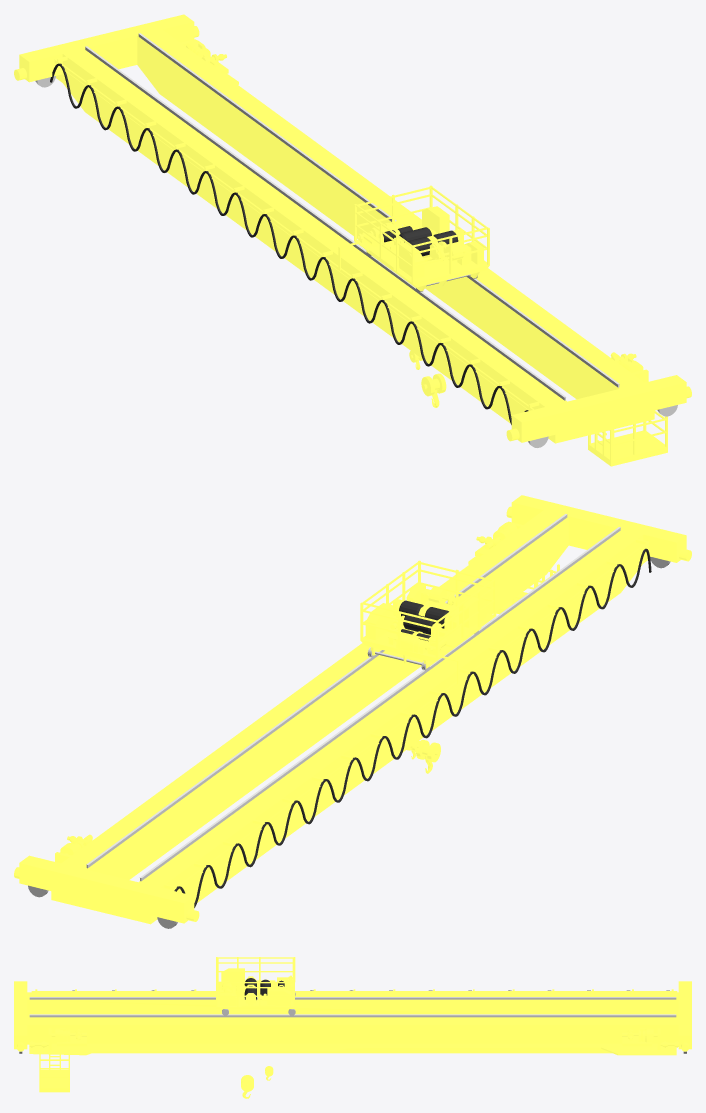
3 views of the same model, one above another, from view 1: azimuth 30°, elevation 25°; view 2: azimuth 150°, elevation 25°; view 3: azimuth 270°, elevation 25° (orthographic). The views are drawn at different scales.
Visible parts, largest first — view 1: 3_Bay_C_172_Body, 3_Bay_C_172_Head; view 2: 3_Bay_C_172_Body, 3_Bay_C_172_Head; view 3: 3_Bay_C_172_Body, 3_Bay_C_172_Head.
Boxes of the visible parts, bbox=[...] form: 3_Bay_C_172_Body: bbox=[14, 14, 691, 466]; 3_Bay_C_172_Head: bbox=[338, 185, 489, 407]; 3_Bay_C_172_Body: bbox=[14, 495, 691, 928]; 3_Bay_C_172_Head: bbox=[360, 560, 496, 773]; 3_Bay_C_172_Body: bbox=[14, 981, 691, 1092]; 3_Bay_C_172_Head: bbox=[216, 957, 295, 1098].
Size of the model in its own units: 7.27 by 7.26 by 35.2.
